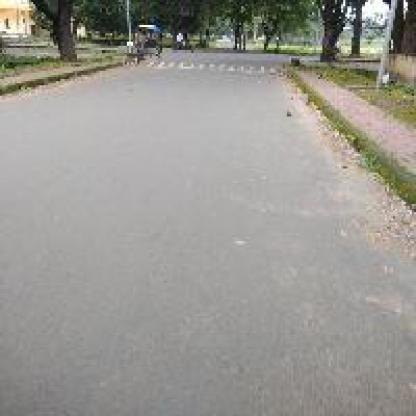Speed Bump: (154, 58, 270, 73)
